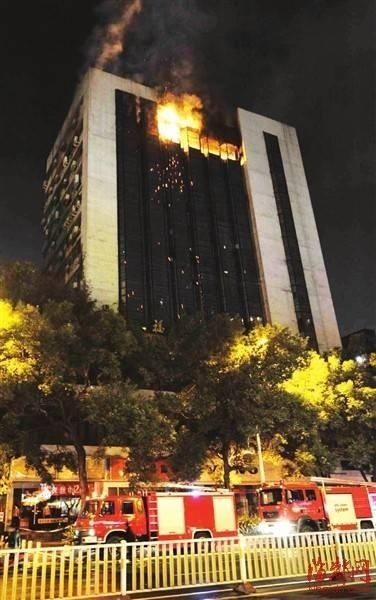fire: (154, 94, 244, 166)
